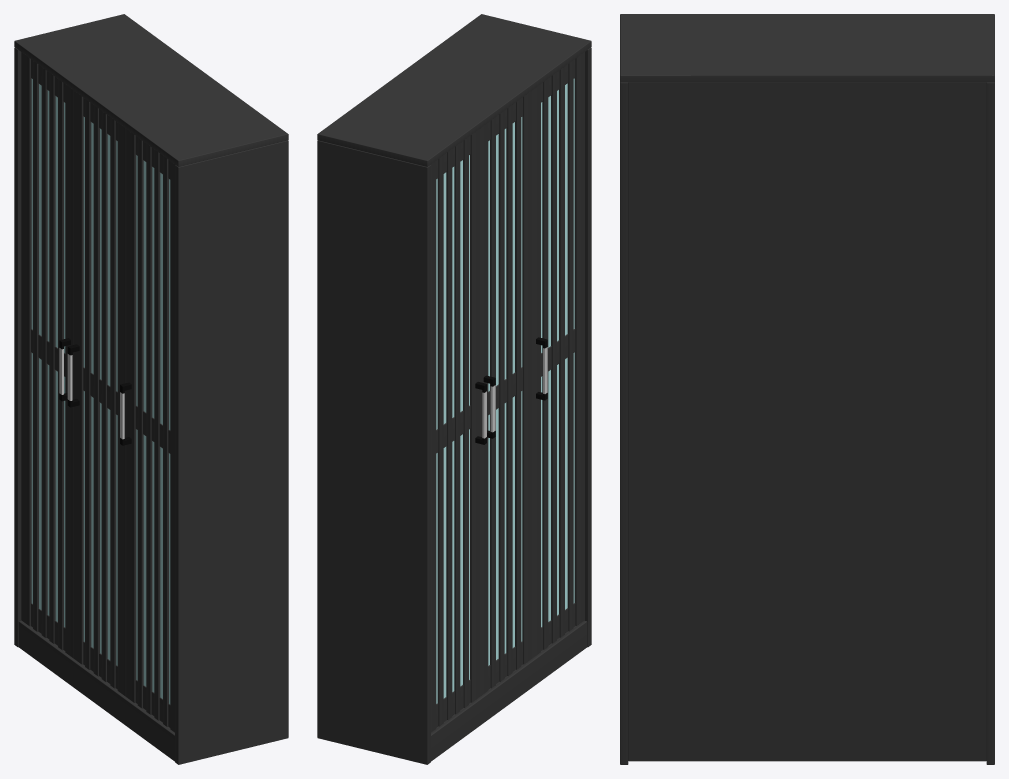
File: SM_Bookshelf_02.fbx
The picture shows the model from 3 angles, left to right: view 1: azimuth 30°, elevation 25°; view 2: azimuth 150°, elevation 25°; view 3: azimuth 270°, elevation 25°; orthographic projection. The views are drawn at different scales.
Visible parts, largest first — view 1: SM_Bookshelf_02_LOD0; view 2: SM_Bookshelf_02_LOD0; view 3: SM_Bookshelf_02_LOD0.
Boxes of the visible parts, x1,y1,x2,y2 form: SM_Bookshelf_02_LOD0: (14,14,288,764); SM_Bookshelf_02_LOD0: (317,14,591,764); SM_Bookshelf_02_LOD0: (620,14,994,764).
Bounding box in the file's own units: 36.88 × 90.1 × 183.
